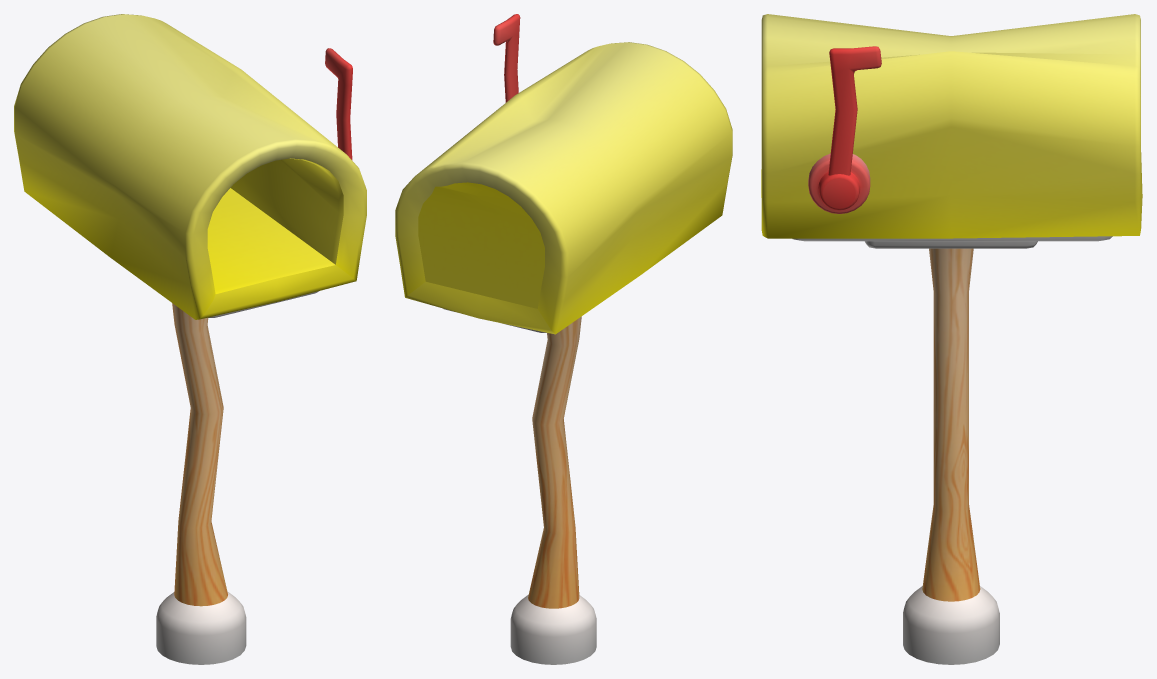
File: Mailbox_A_yellow.fbx
3 renders of one model, left to right at view 1: azimuth 30°, elevation 25°; view 2: azimuth 150°, elevation 25°; view 3: azimuth 270°, elevation 25°, orthographic. The views are drawn at different scales.
Parts seen in each view (by area): view 1: MailboxA_yellow; view 2: MailboxA_yellow; view 3: MailboxA_yellow.
Part boxes in pixels (box(x1,y1,x2,y2)): MailboxA_yellow: box(14, 14, 366, 664); MailboxA_yellow: box(395, 14, 732, 664); MailboxA_yellow: box(761, 14, 1142, 664).
Bounding box in the file's own units: 1.07 × 1.64 × 3.07.
